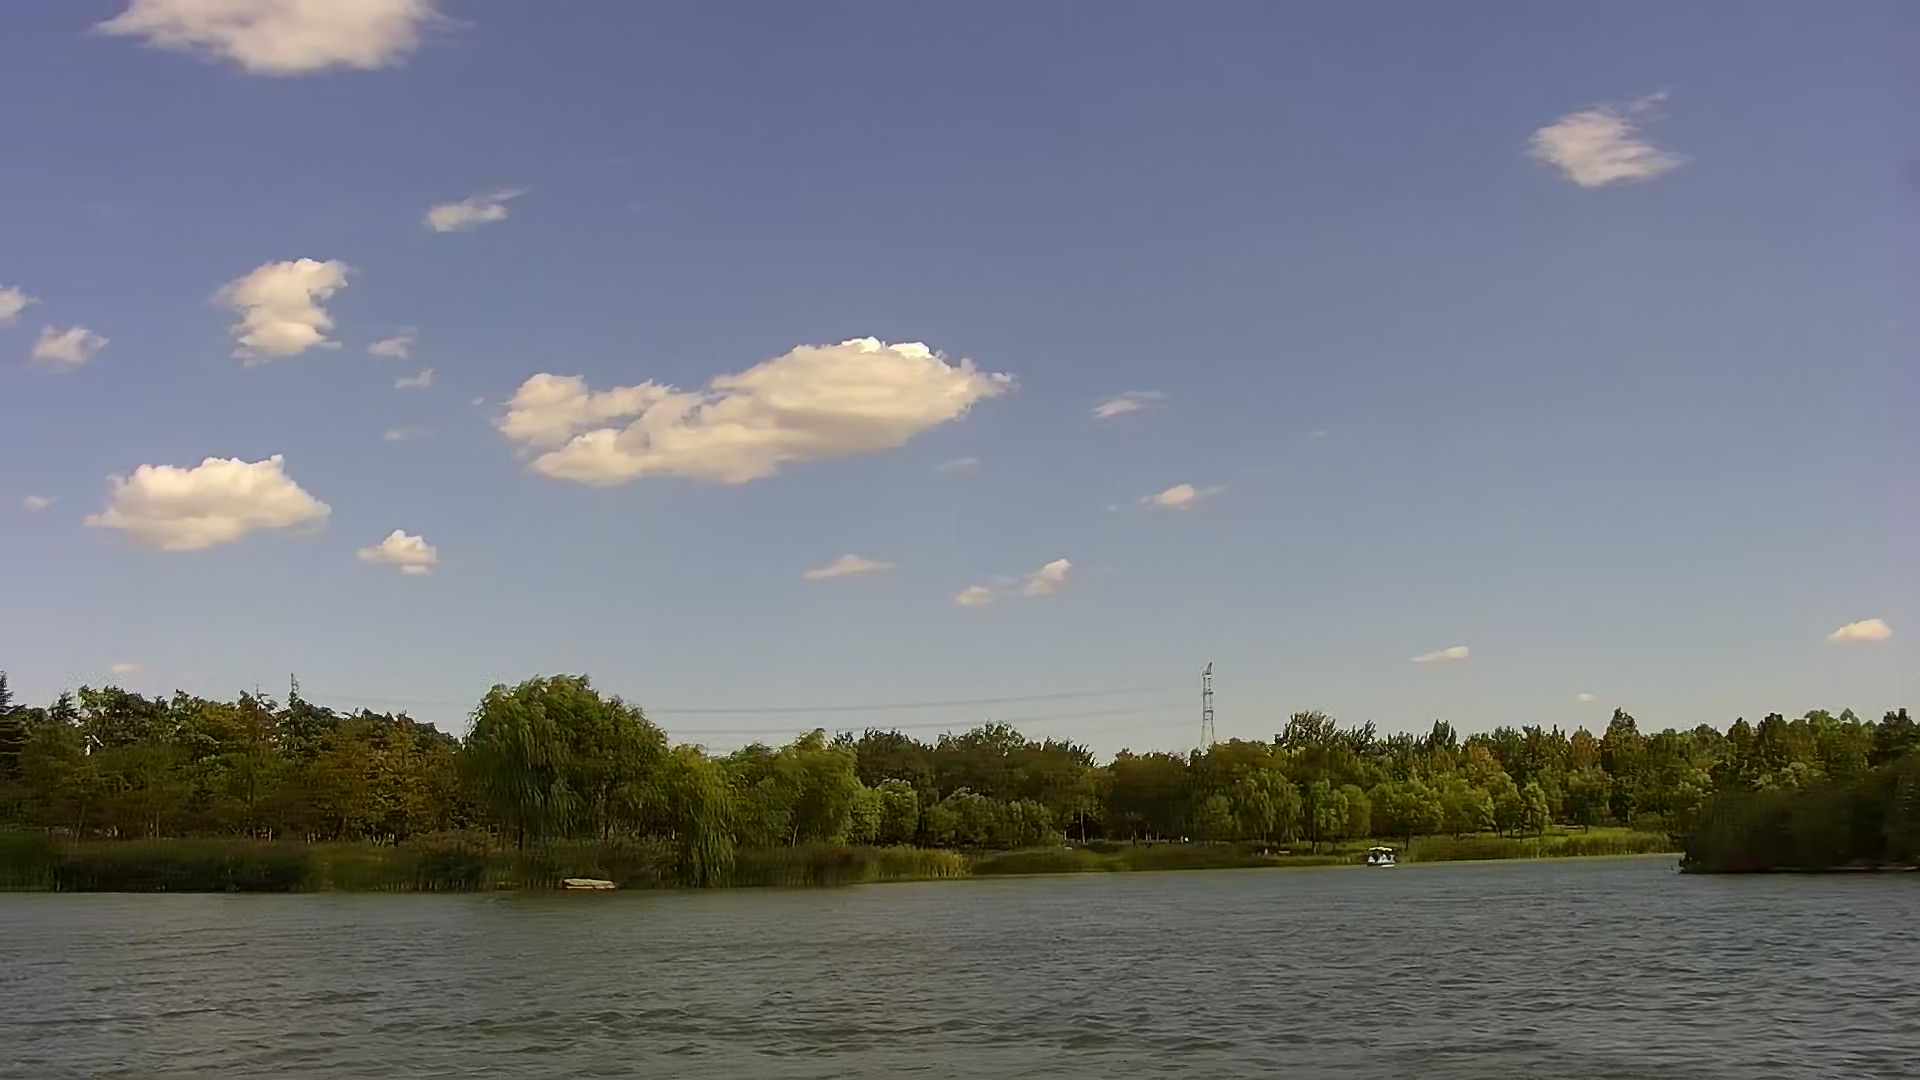boat: (1369, 843, 1393, 865)
rock: (564, 872, 615, 893)
